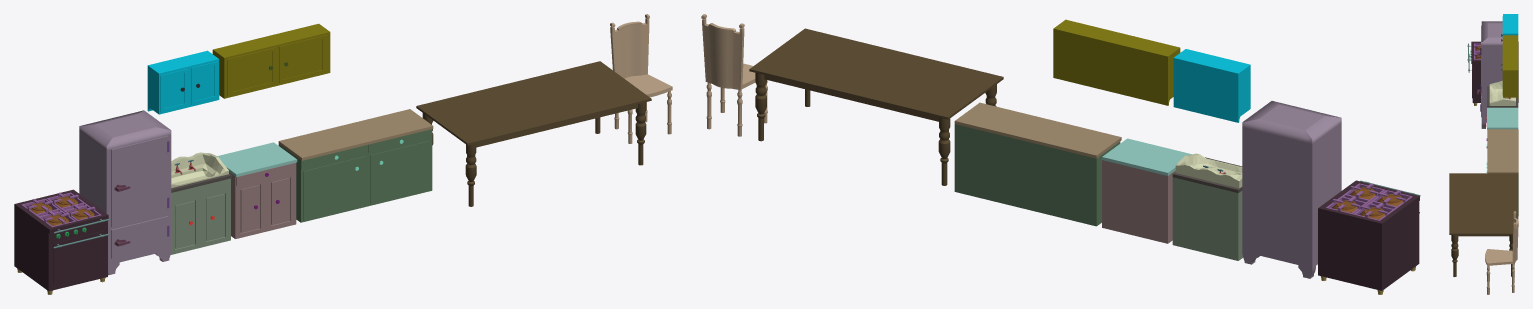
Rendered from Kitchen_UV_Modeled_FBX.fbx.
The picture shows the model from 3 angles, left to right: view 1: azimuth 30°, elevation 25°; view 2: azimuth 150°, elevation 25°; view 3: azimuth 270°, elevation 25°; orthographic projection. The views are drawn at different scales.
Parts seen in each view (by area): view 1: Cabinet_2, Fridge_Body, Table_Body, Oven_Body, High_Cabinet2, Cabinet3, Cabinet1, High_Cabinet1, Chair_Base, Sink_Unwrapped_Done:Sink_Body, Oven_Guard2, Oven_Guard1 (+2 smaller); view 2: Cabinet_2, Fridge_Body, Table_Body, Oven_Body, High_Cabinet2, Cabinet3, Cabinet1, High_Cabinet1, Chair_Base, Sink_Unwrapped_Done:Sink_Body, Oven_Guard2, Oven_Guard1 (+2 smaller); view 3: Table_Body, Fridge_Body, Cabinet_2, High_Cabinet2, Cabinet3, Chair_Base, Oven_Body, Sink_Unwrapped_Done:Sink_Body, High_Cabinet1, Leg1, Cabinet1, Chair_Leg3 (+2 smaller).
Boxes of the visible parts, <box> form: Cabinet_2: <box>278,109,433,222</box>; Fridge_Body: <box>79,110,171,275</box>; Table_Body: <box>416,61,651,147</box>; Oven_Body: <box>14,189,108,291</box>; High_Cabinet2: <box>212,23,330,98</box>; Cabinet3: <box>217,142,297,238</box>; Cabinet1: <box>170,173,231,254</box>; High_Cabinet1: <box>147,50,219,114</box>; Chair_Base: <box>610,14,672,97</box>; Sink_Unwrapped_Done:Sink_Body: <box>171,152,228,187</box>; Oven_Guard2: <box>46,192,101,220</box>; Oven_Guard1: <box>21,198,76,227</box>; Cabinet_2: <box>954,102,1121,226</box>; Fridge_Body: <box>1242,101,1341,278</box>; Table_Body: <box>749,28,1003,121</box>; Oven_Body: <box>1318,180,1419,290</box>; High_Cabinet2: <box>1053,19,1180,105</box>; Cabinet3: <box>1102,138,1191,243</box>; Cabinet1: <box>1172,157,1243,260</box>; High_Cabinet1: <box>1173,49,1250,122</box>; Chair_Base: <box>701,14,755,90</box>; Sink_Unwrapped_Done:Sink_Body: <box>1175,153,1242,188</box>; Oven_Guard2: <box>1326,183,1385,214</box>; Oven_Guard1: <box>1353,190,1412,220</box>; Table_Body: <box>1449,173,1518,236</box>; Fridge_Body: <box>1481,21,1502,128</box>; Cabinet_2: <box>1487,129,1518,215</box>; High_Cabinet2: <box>1502,35,1518,100</box>; Cabinet3: <box>1487,107,1518,129</box>; Chair_Base: <box>1485,211,1518,265</box>; Oven_Body: <box>1471,41,1518,102</box>; Sink_Unwrapped_Done:Sink_Body: <box>1489,80,1515,105</box>; High_Cabinet1: <box>1502,14,1518,37</box>; Leg1: <box>1451,235,1458,276</box>; Cabinet1: <box>1487,86,1518,107</box>; Chair_Leg3: <box>1511,264,1514,292</box>.
Bounding box in the file's own units: 24.72 × 6.47 × 3.48.
